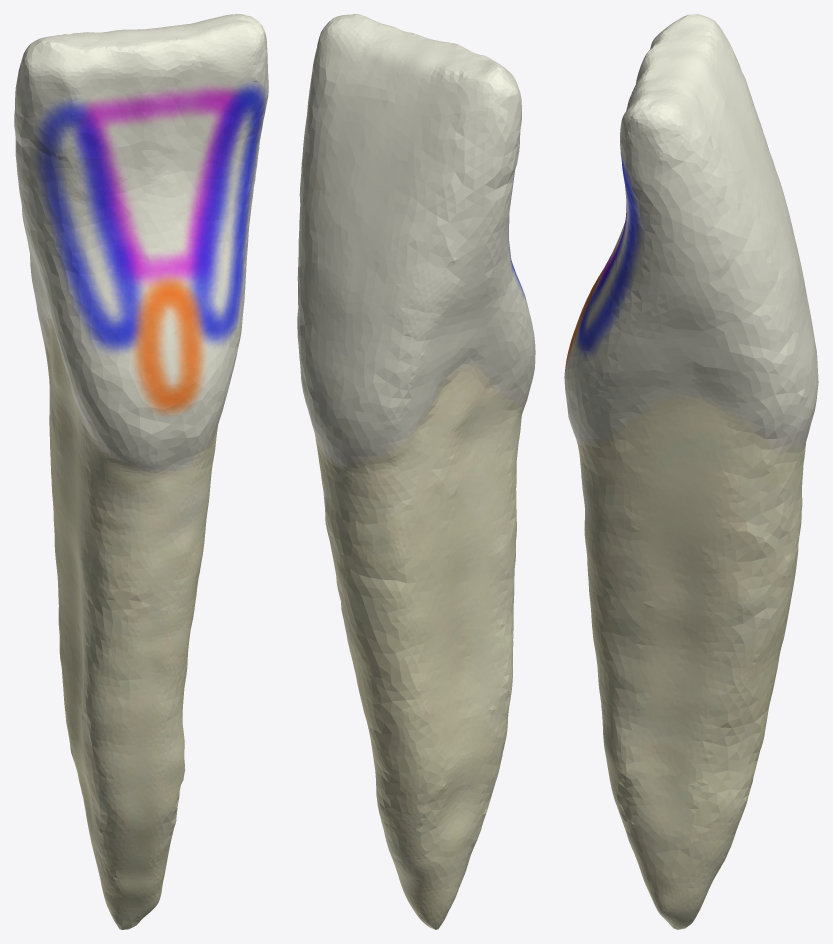
The model's file is 31 - incisivo central inferior esquerdo - face lingual.glb.
3 views of the same model, side by side, from view 1: azimuth 30°, elevation 25°; view 2: azimuth 150°, elevation 25°; view 3: azimuth 270°, elevation 25° (orthographic). The views are drawn at different scales.
Visible parts, largest first — view 1: 3MFMeshParent_0; view 2: 3MFMeshParent_0; view 3: 3MFMeshParent_0.
Part boxes in pixels (x1,y1,x2,y2): 3MFMeshParent_0: (14,14,268,929); 3MFMeshParent_0: (297,14,535,929); 3MFMeshParent_0: (564,14,818,929).
Bounding box in the file's own units: 0.151 × 0.5821 × 0.1522.
1 material, 1 textured.
